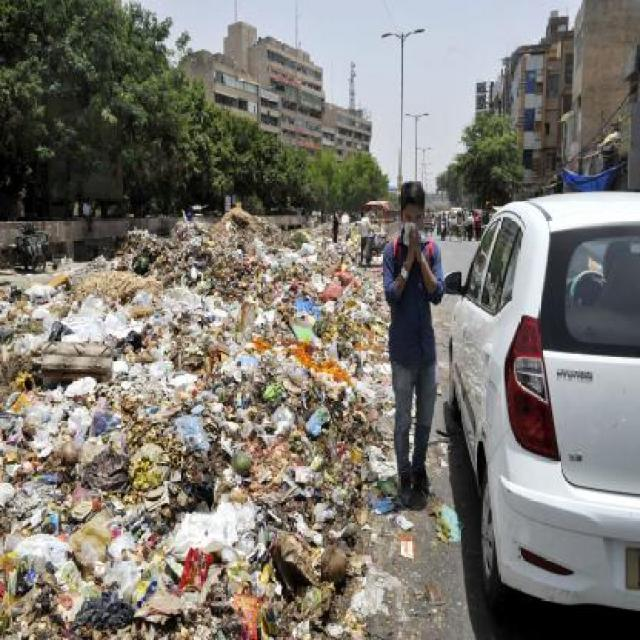garbage: (2, 231, 212, 640), (179, 215, 334, 640), (340, 269, 373, 392)
